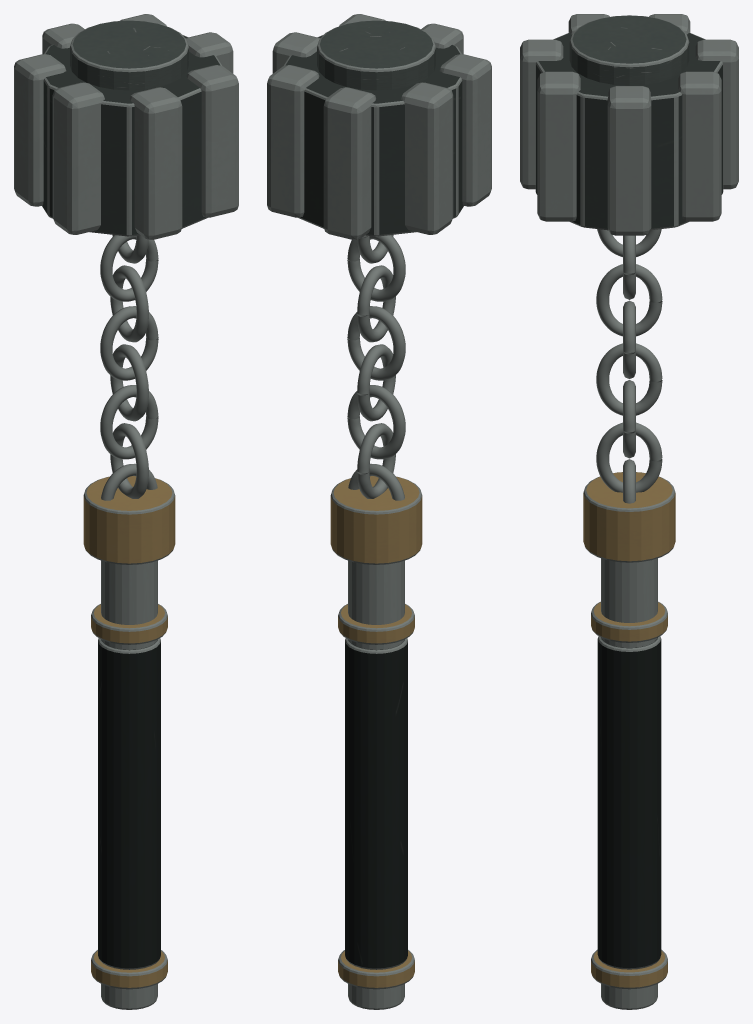
The model's file is flail-t3.glb.
The picture shows the model from 3 angles, left to right: view 1: azimuth 30°, elevation 25°; view 2: azimuth 150°, elevation 25°; view 3: azimuth 270°, elevation 25°; orthographic projection.
Parts seen in each view (by area): view 1: Continuous two-hand wrap, Flail core, Flail striking rib 5, Flail striking rib 4, Flail crown, Flail hinged collar, Flail striking rib 6, Steel shaft, Flail striking rib 3, Articulated chain link 2, Articulated chain link 4, Grip ferrule.001 (+9 smaller); view 2: Continuous two-hand wrap, Flail core, Flail striking rib 2, Flail striking rib 3, Flail crown, Flail hinged collar, Flail striking rib 1, Steel shaft, Flail striking rib 4, Articulated chain link 2, Articulated chain link 4, Grip ferrule.001 (+9 smaller); view 3: Continuous two-hand wrap, Flail core, Flail crown, Flail hinged collar, Flail striking rib 0, Flail striking rib 1, Flail striking rib 6, Steel shaft, Flail striking rib 2, Flail striking rib 5, Articulated chain link 5, Articulated chain link 3 (+8 smaller).
Part boxes in pixels (left/top/right/bottom): Continuous two-hand wrap: left=98, top=638, right=160, bottom=969; Flail core: left=42, top=35, right=221, bottom=236; Flail striking rib 5: left=130, top=87, right=182, bottom=239; Flail striking rib 4: left=52, top=82, right=104, bottom=234; Flail crown: left=70, top=20, right=188, bottom=90; Flail hinged collar: left=83, top=476, right=175, bottom=564; Flail striking rib 6: left=186, top=65, right=238, bottom=217; Steel shaft: left=101, top=560, right=157, bottom=1009; Flail striking rib 3: left=14, top=54, right=66, bottom=206; Articulated chain link 2: left=100, top=385, right=158, bottom=459; Articulated chain link 4: left=100, top=306, right=158, bottom=380; Grip ferrule.001: left=91, top=604, right=167, bottom=644; Continuous two-hand wrap: left=345, top=638, right=407, bottom=969; Flail core: left=284, top=35, right=463, bottom=236; Flail striking rib 2: left=323, top=87, right=375, bottom=239; Flail striking rib 3: left=401, top=82, right=453, bottom=234; Flail crown: left=317, top=20, right=435, bottom=90; Flail hinged collar: left=330, top=476, right=422, bottom=564; Flail striking rib 1: left=267, top=65, right=319, bottom=217; Steel shaft: left=348, top=560, right=404, bottom=1009; Flail striking rib 4: left=439, top=54, right=491, bottom=206; Articulated chain link 2: left=347, top=385, right=405, bottom=459; Articulated chain link 4: left=347, top=306, right=405, bottom=380; Grip ferrule.001: left=338, top=604, right=414, bottom=644; Continuous two-hand wrap: left=597, top=636, right=661, bottom=969; Flail core: left=535, top=32, right=723, bottom=230; Flail crown: left=569, top=15, right=689, bottom=85; Flail hinged collar: left=583, top=472, right=675, bottom=562; Flail striking rib 0: left=607, top=86, right=651, bottom=235; Flail striking rib 1: left=678, top=71, right=721, bottom=221; Flail striking rib 6: left=537, top=71, right=580, bottom=221; Steel shaft: left=601, top=558, right=657, bottom=1009; Flail striking rib 2: left=695, top=39, right=738, bottom=189; Flail striking rib 5: left=520, top=39, right=563, bottom=189; Articulated chain link 5: left=596, top=264, right=662, bottom=336; Articulated chain link 3: left=596, top=343, right=662, bottom=415.
Bounding box in the file's own units: 0.4657 × 2.3 × 0.4752.
Materials: 5 (5 with a texture image).
